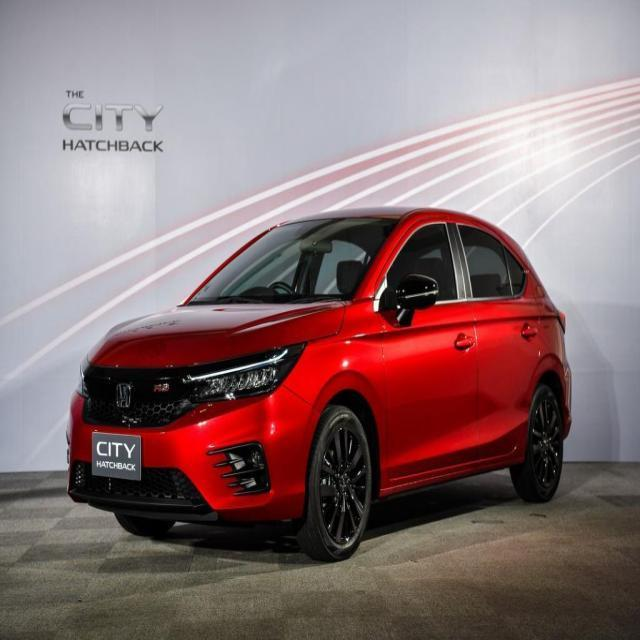Hatchback: (66, 208, 574, 565)
